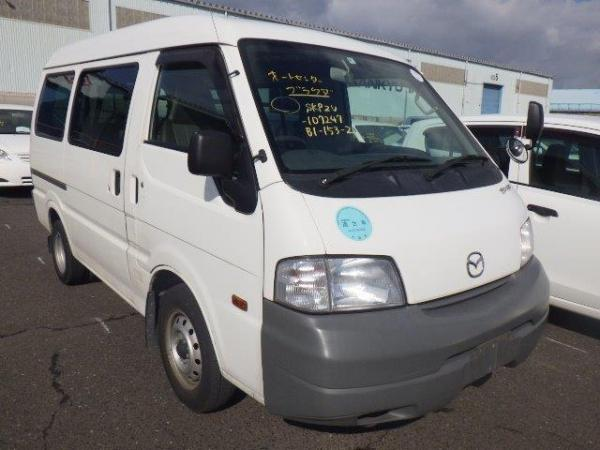Van: (19, 10, 559, 416)
